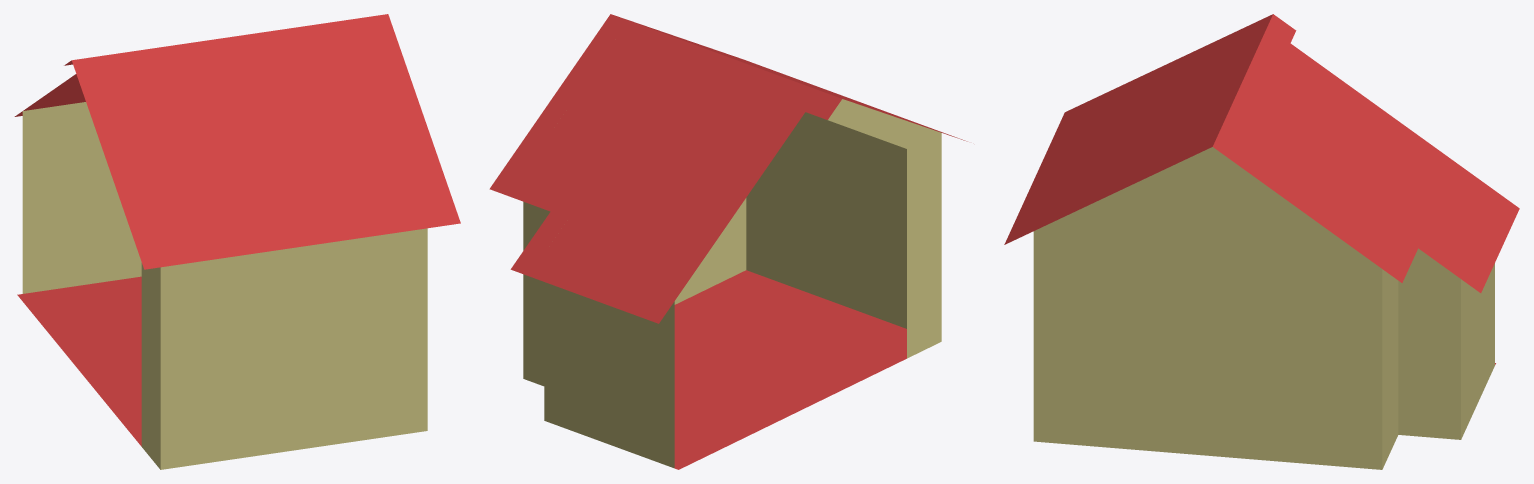
3 views of the same model, side by side, from view 1: azimuth 30°, elevation 25°; view 2: azimuth 150°, elevation 25°; view 3: azimuth 270°, elevation 25° (orthographic). The views are drawn at different scales.
Bounding box in the file's own units: 11.67 × 15.39 × 10.54.
